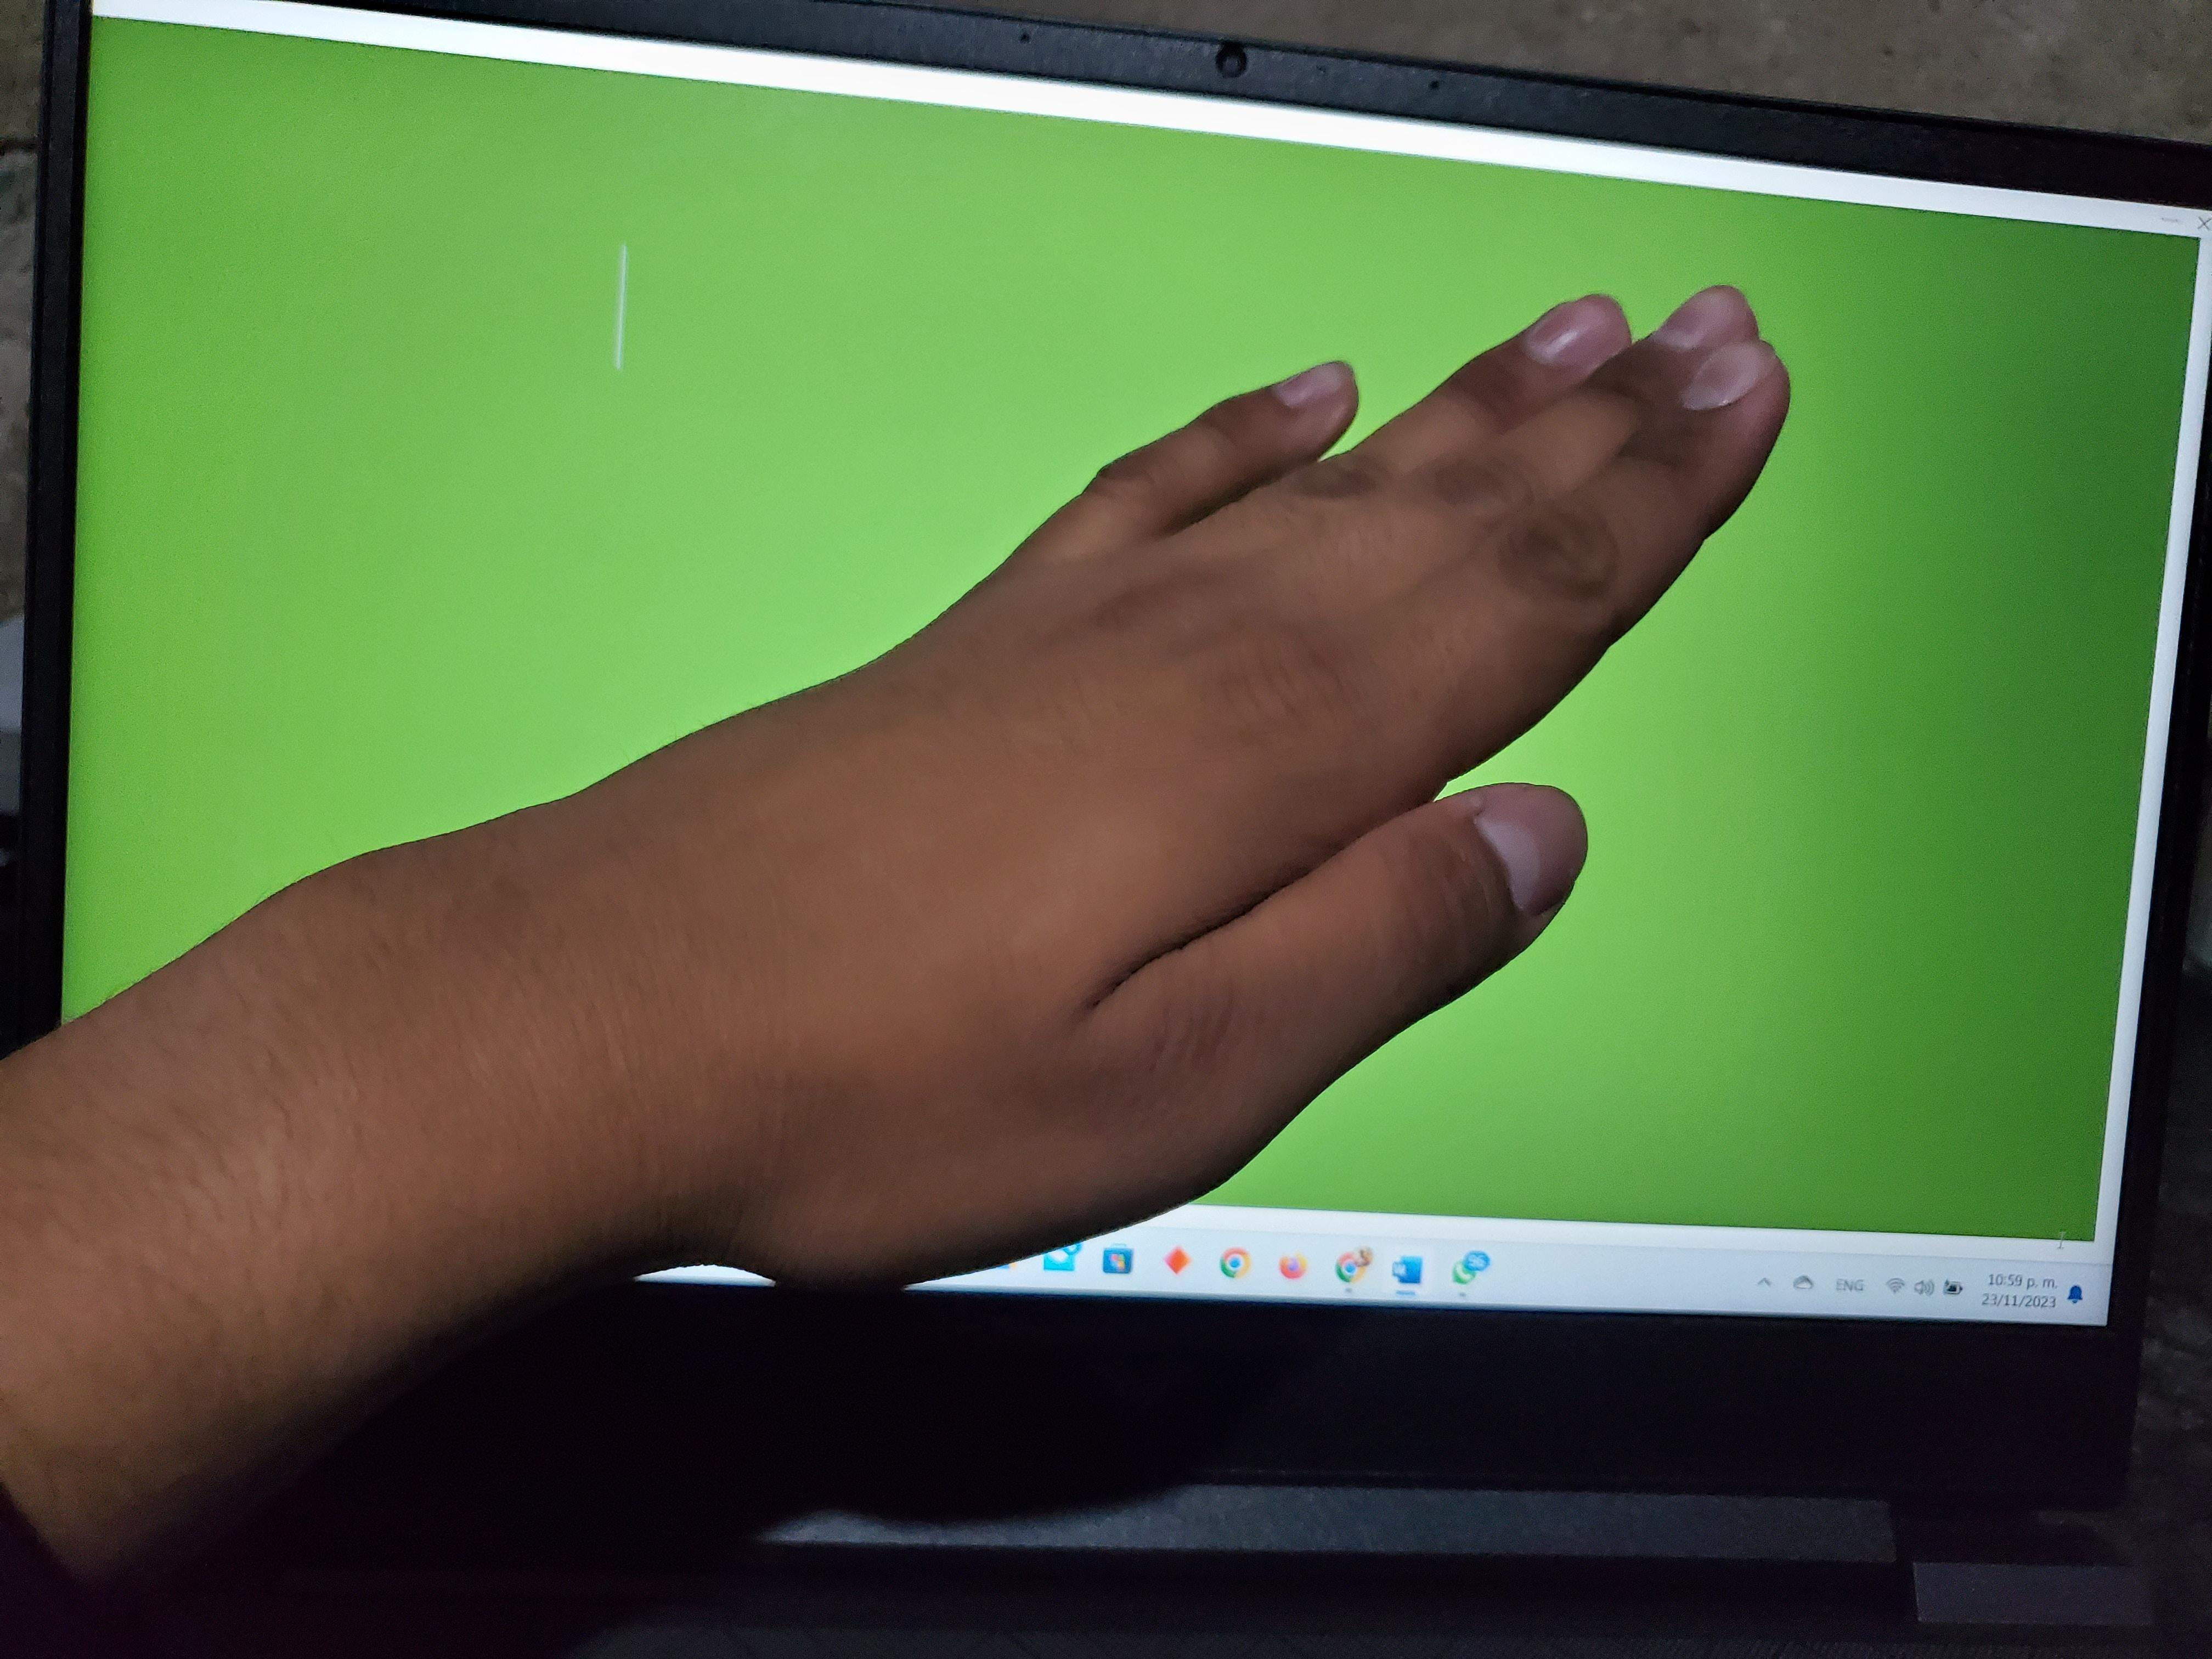Paper: (73, 176, 1935, 1425)
